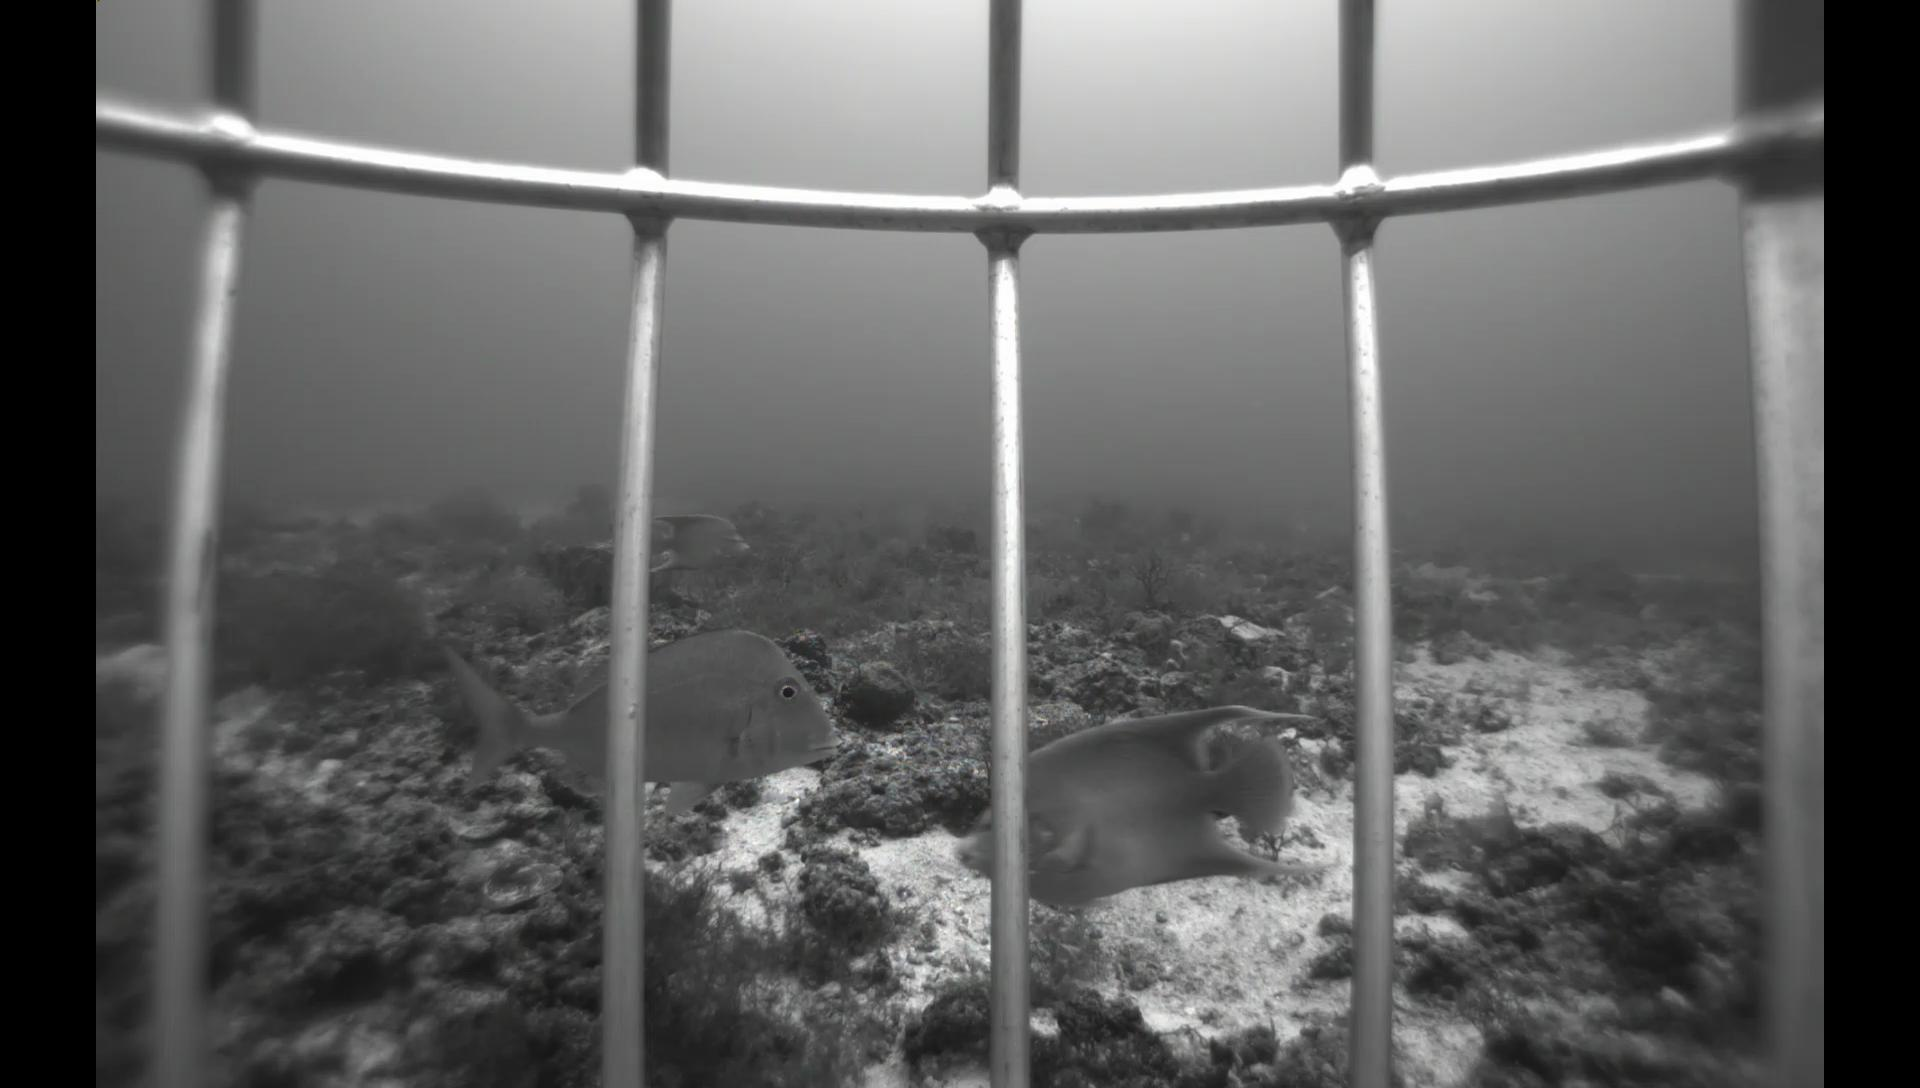CALAMUSNODOSUS-170210608: (434, 622, 860, 830)
HOLACANTHUSBERMUDENSIS-170290102: (945, 699, 1346, 921), (651, 510, 762, 579)
MYCTEROPERCAPHENAX-170022105: (844, 510, 887, 557)
